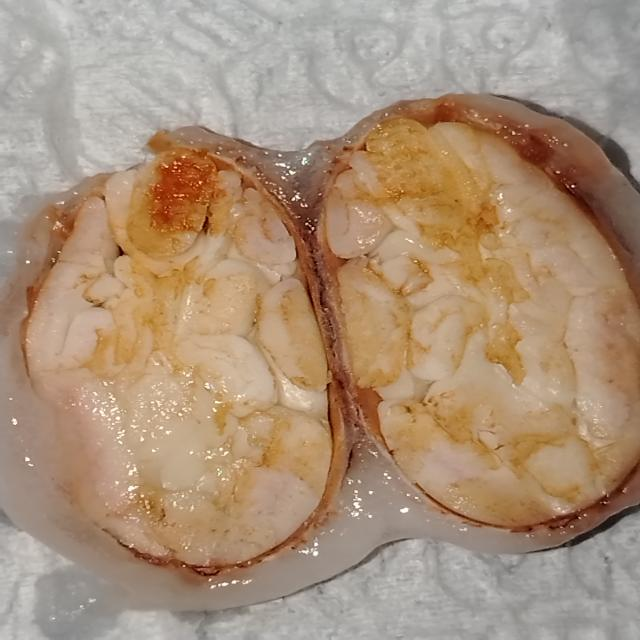Criollo: (313, 117, 640, 541), (32, 146, 333, 574)
